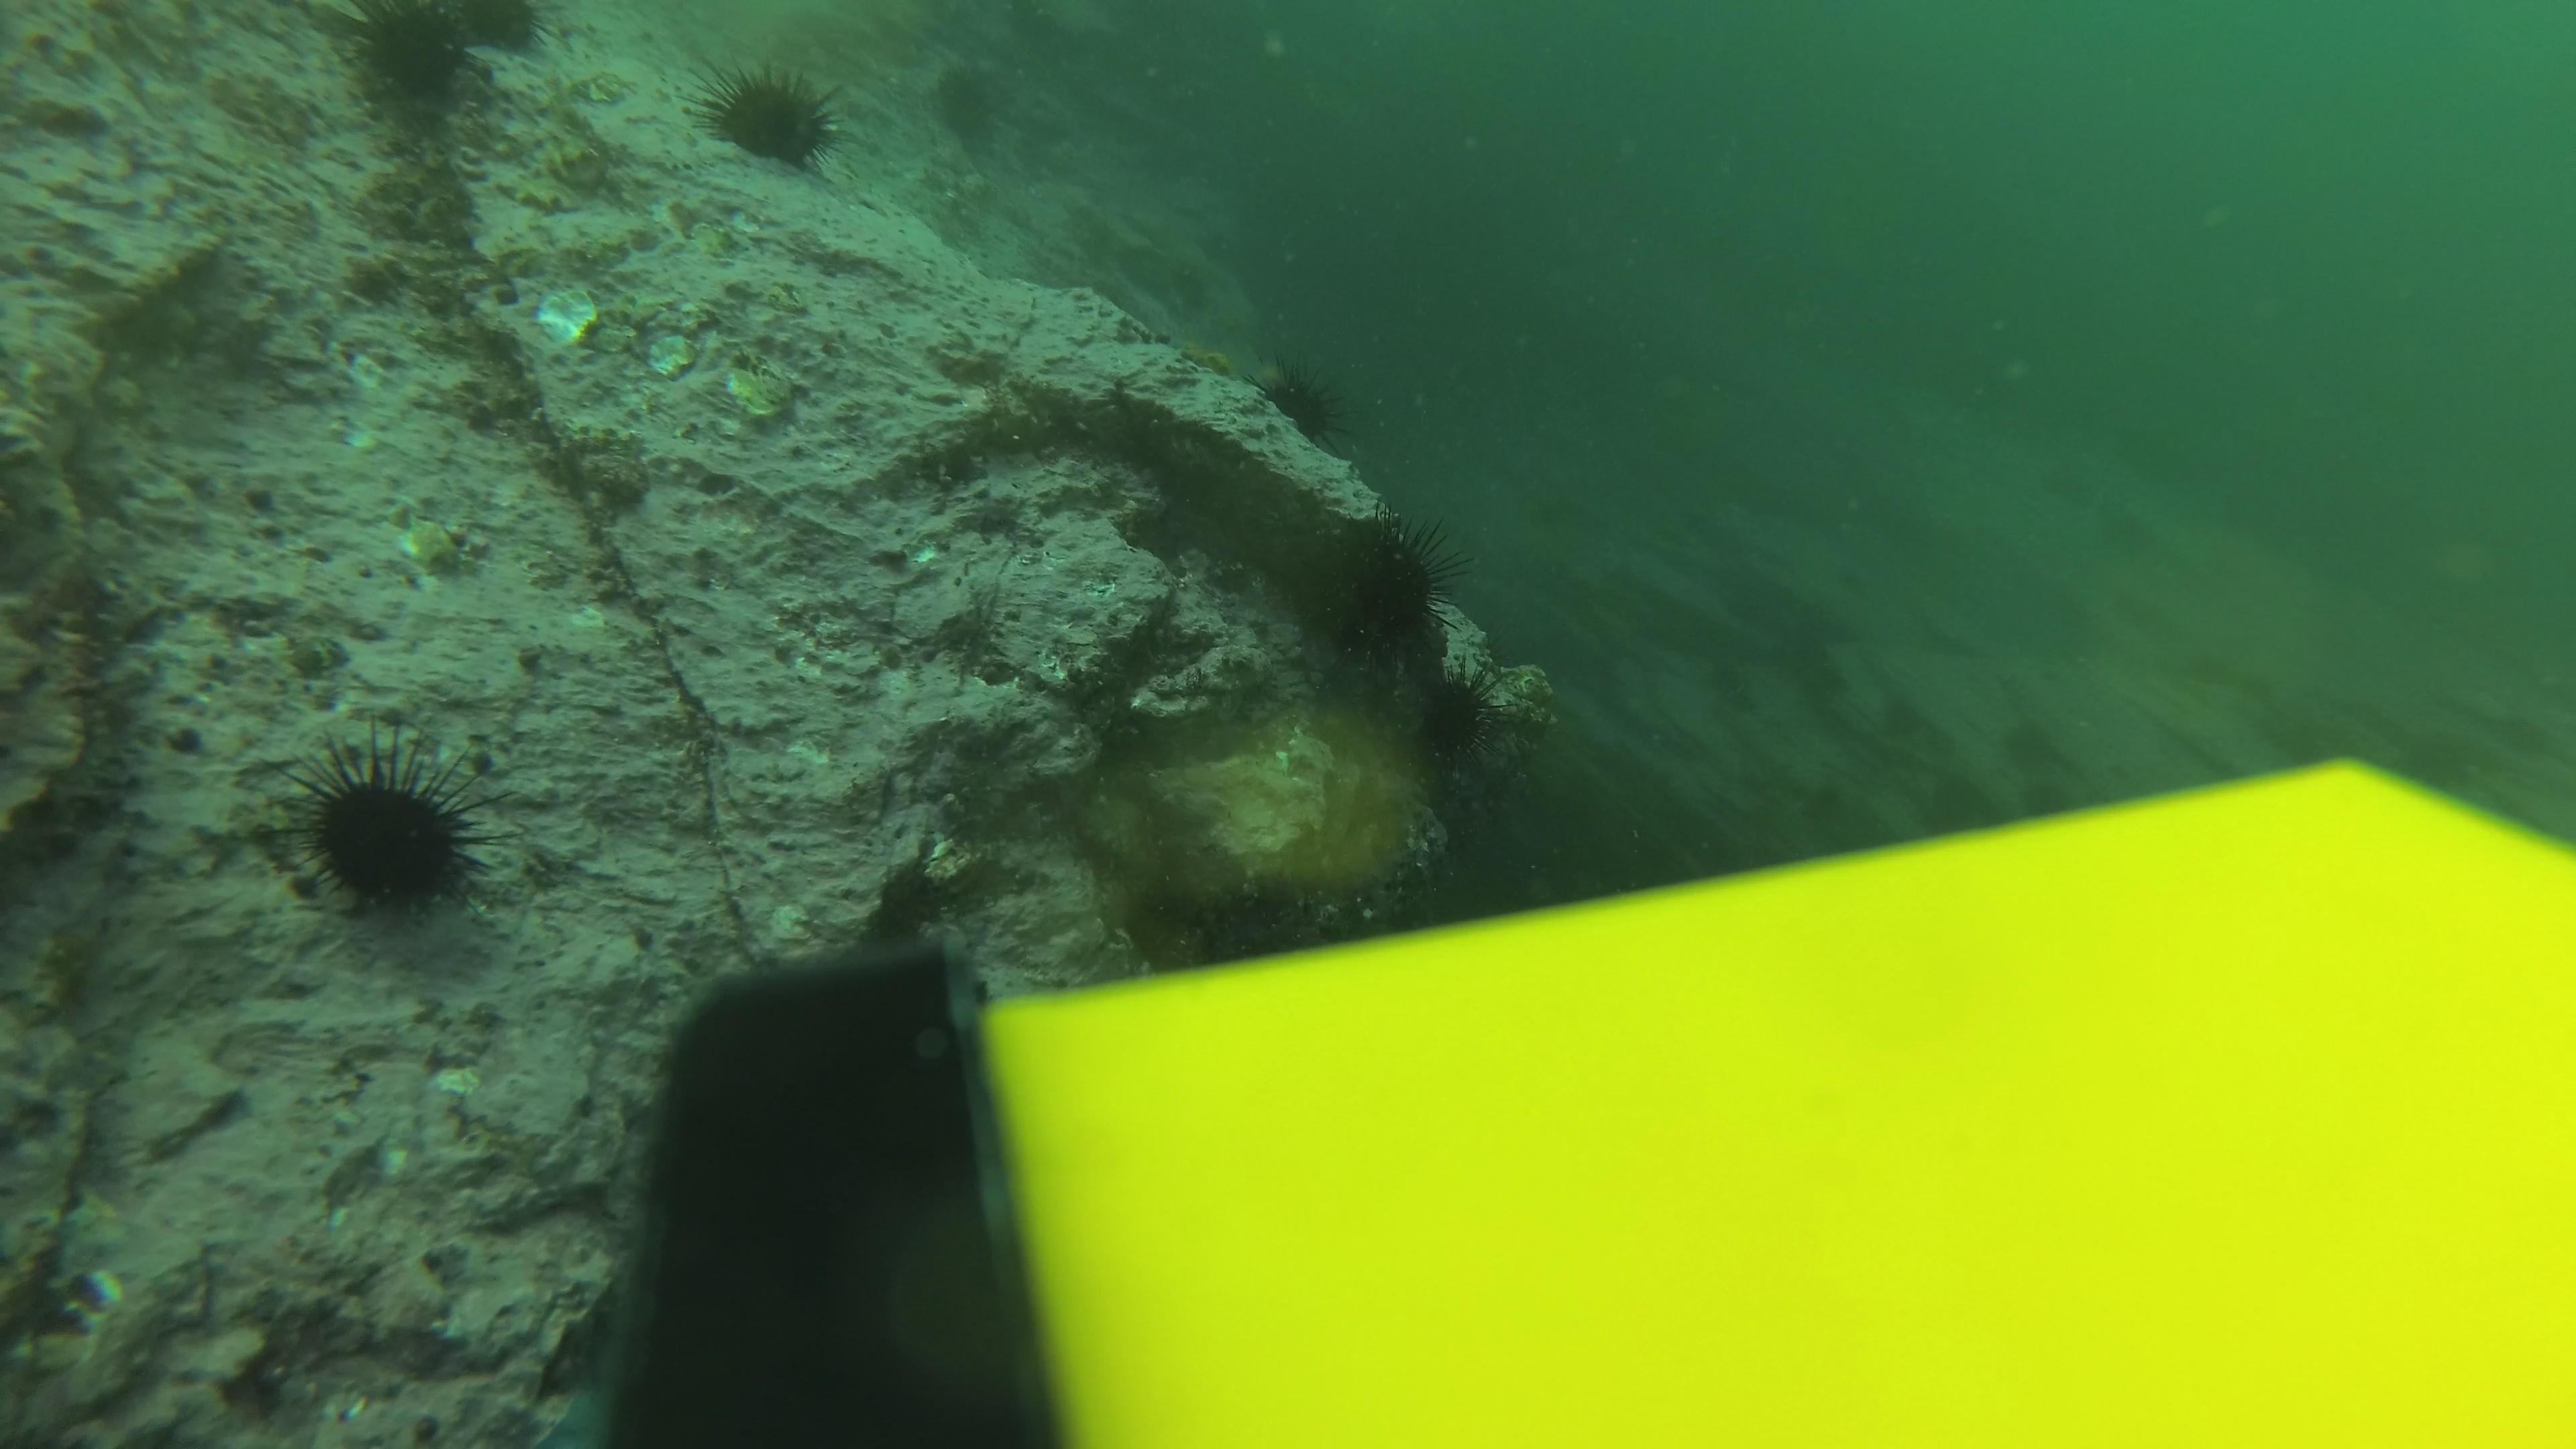echinus: (280, 727, 499, 927), (1299, 508, 1465, 671), (333, 0, 554, 113), (694, 58, 846, 175), (1246, 352, 1355, 458), (1407, 669, 1500, 766), (927, 58, 1010, 150)
starfish: (1166, 324, 1286, 393)
